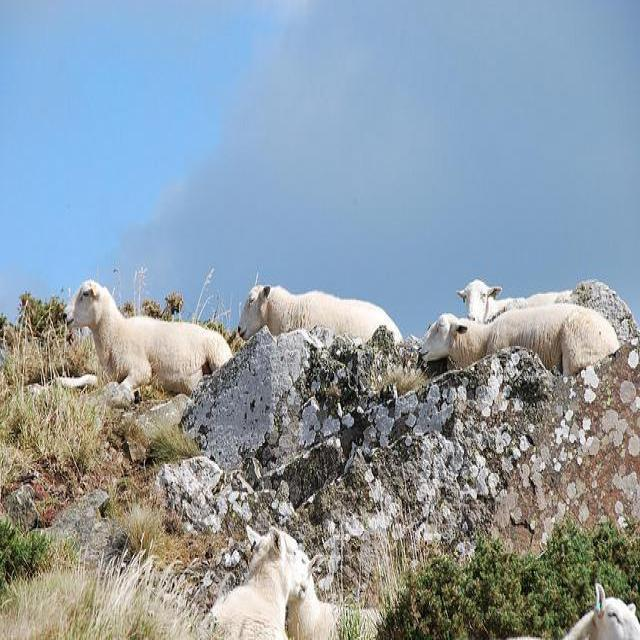Sheep: (55, 280, 235, 402), (419, 304, 619, 373), (238, 274, 403, 344), (205, 522, 308, 634), (284, 555, 384, 638), (564, 573, 639, 638)
